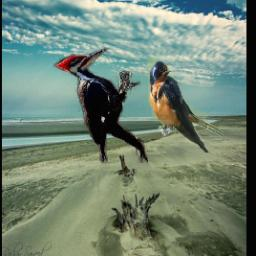Swallow: (149, 59, 224, 153)
Woodpecker: (54, 48, 149, 164)
